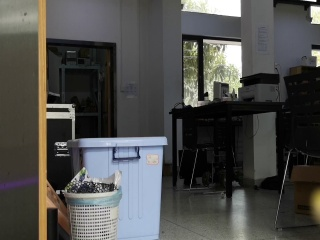room: (9, 3, 299, 233)
